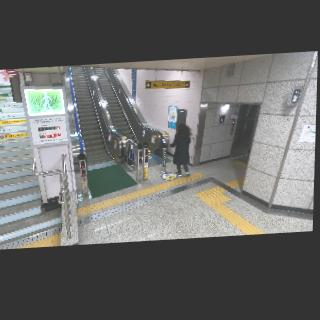normal: (167, 122, 193, 178)
